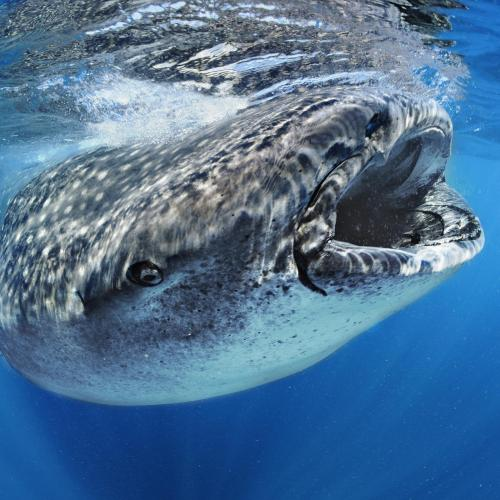shark-endangered: (0, 79, 486, 407)
